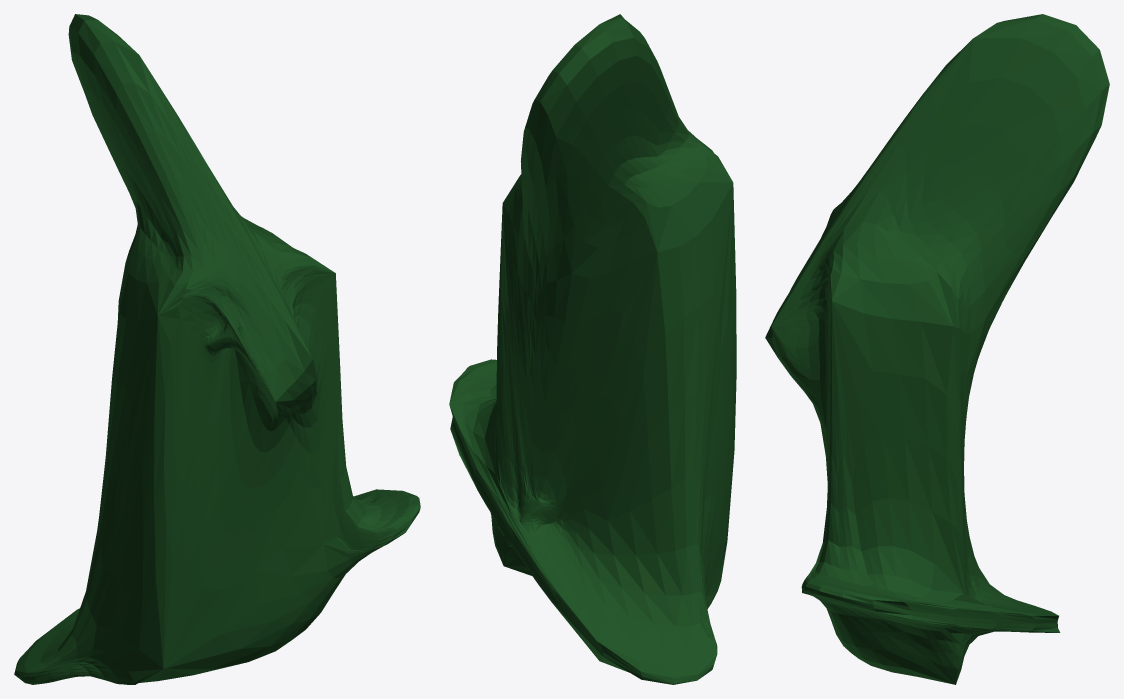
3 views of the same model, side by side, from view 1: azimuth 30°, elevation 25°; view 2: azimuth 150°, elevation 25°; view 3: azimuth 270°, elevation 25° (orthographic).
Visible parts, largest first — view 1: 146_Cube.608; view 2: 146_Cube.608; view 3: 146_Cube.608.
Part boxes in pixels (bbox=[...]): 146_Cube.608: bbox=[14, 14, 420, 684]; 146_Cube.608: bbox=[449, 14, 736, 684]; 146_Cube.608: bbox=[765, 14, 1109, 684].
Size of the model in its own units: 9.54 by 17.93 by 8.8.
